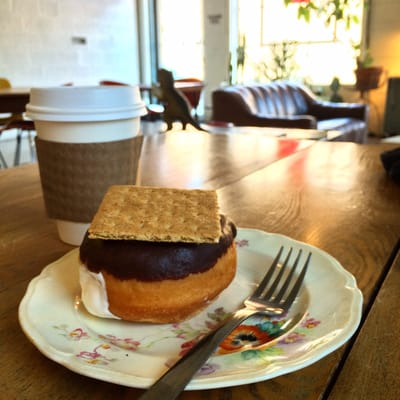sandwich: (135, 245, 315, 400)
soup: (77, 184, 239, 324)
